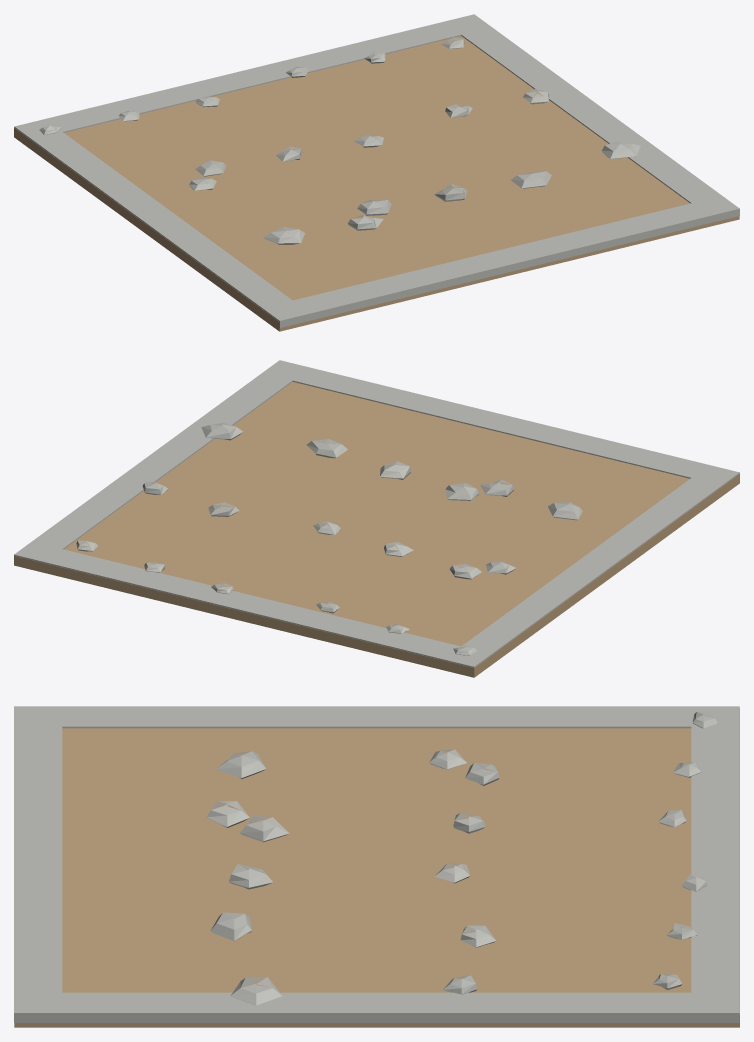
The model's file is wipe-day-survival-island-dirt-road-piece-de6b76eb__27440.glb.
3 renders of one model, top to bottom at view 1: azimuth 30°, elevation 25°; view 2: azimuth 150°, elevation 25°; view 3: azimuth 270°, elevation 25°, orthographic. The views are drawn at different scales.
Parts seen in each view (by area): view 1: dirt-road-piece; view 2: dirt-road-piece; view 3: dirt-road-piece.
Boxes of the visible parts, x1=… form: dirt-road-piece: x1=14, y1=14, x2=739, y2=331; dirt-road-piece: x1=14, y1=360, x2=739, y2=677; dirt-road-piece: x1=14, y1=706, x2=739, y2=1027.
Size of the model in its own units: 3 by 0.1181 by 3.
